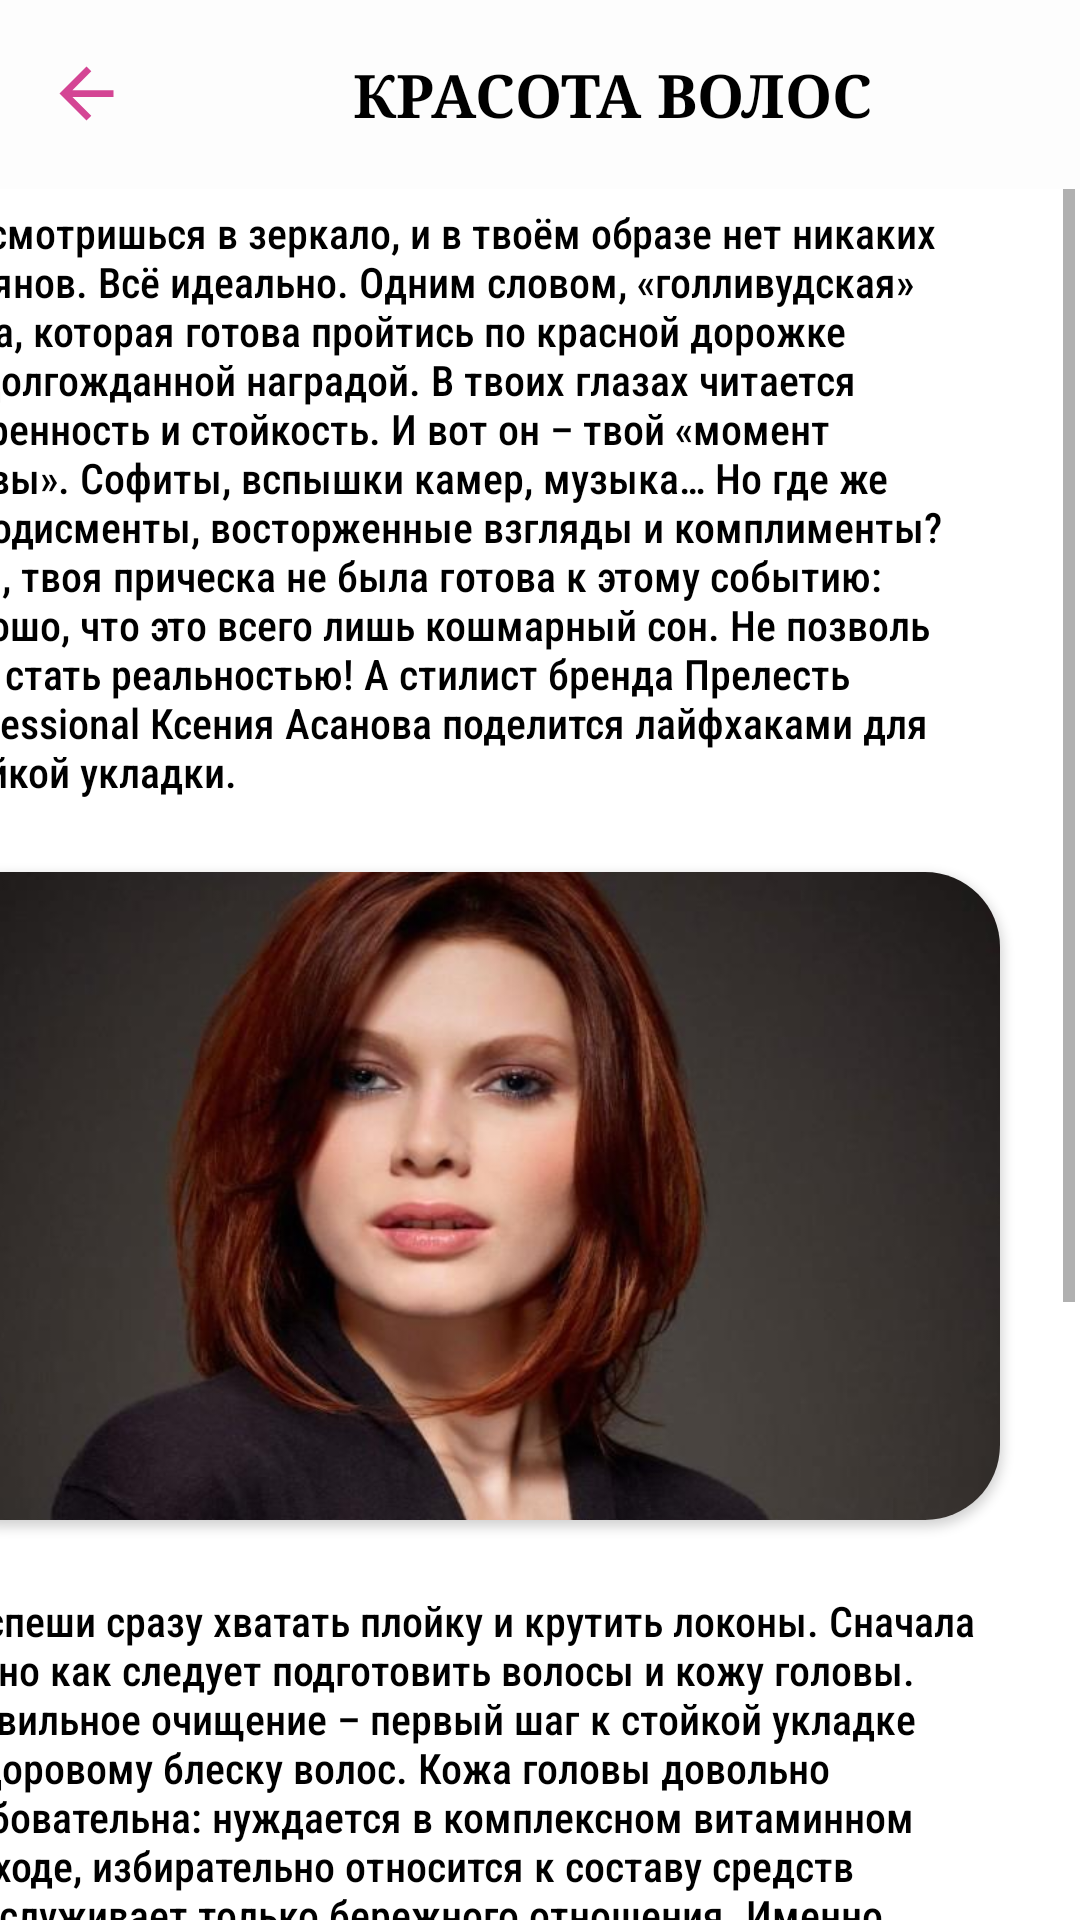

Icons on this 1080x1920 Android screen, each with the point to tap as (x,y):
arrow back: (86,93)
